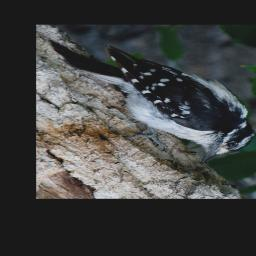Woodpecker: (44, 40, 256, 164)
